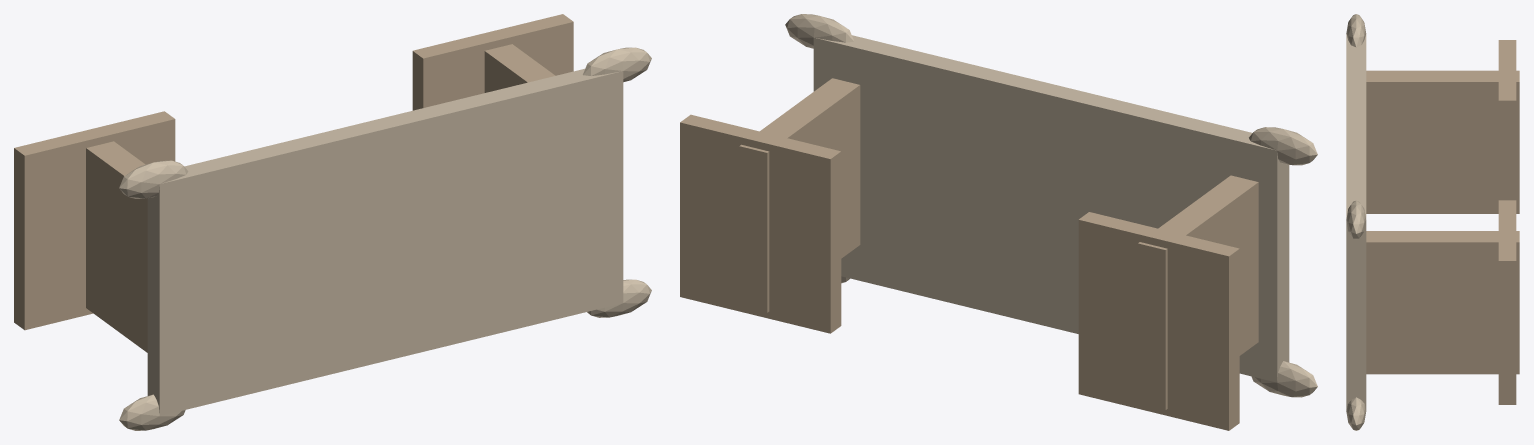
The model's file is meeting_table.glb.
The picture shows the model from 3 angles, left to right: view 1: azimuth 30°, elevation 25°; view 2: azimuth 150°, elevation 25°; view 3: azimuth 270°, elevation 25°; orthographic projection. The views are drawn at different scales.
Parts seen in each view (by area): view 1: tabletop_core, base_-0.86, pedestal_-0.86, base_0.86, pedestal_0.86, tabletop_corner_-1_1, tabletop_corner_1_1, tabletop_corner_-1_-1, tabletop_corner_1_-1; view 2: tabletop_core, base_-0.86, base_0.86, pedestal_0.86, pedestal_-0.86, tabletop_corner_-1_1, tabletop_corner_1_1, tabletop_corner_-1_-1; view 3: pedestal_-0.86, pedestal_0.86, tabletop_core, base_0.86, base_-0.86, tabletop_corner_1_1, tabletop_corner_1_-1, tabletop_corner_-1_1.
Part boxes in pixels (left/top/right/bottom): tabletop_core: left=147, top=68, right=623, bottom=415; base_-0.86: left=14, top=111, right=175, bottom=330; pedestal_-0.86: left=86, top=141, right=147, bottom=352; base_0.86: left=412, top=14, right=573, bottom=110; pedestal_0.86: left=484, top=44, right=555, bottom=92; tabletop_corner_-1_1: left=119, top=160, right=188, bottom=198; tabletop_corner_1_1: left=583, top=47, right=651, bottom=82; tabletop_corner_-1_-1: left=119, top=394, right=185, bottom=430; tabletop_corner_1_-1: left=587, top=279, right=651, bottom=317; tabletop_core: left=813, top=35, right=1289, bottom=382; base_-0.86: left=1078, top=212, right=1239, bottom=430; base_0.86: left=680, top=114, right=841, bottom=333; pedestal_0.86: left=739, top=78, right=860, bottom=312; pedestal_-0.86: left=1138, top=175, right=1258, bottom=409; tabletop_corner_-1_1: left=1249, top=127, right=1317, bottom=165; tabletop_corner_1_1: left=785, top=14, right=854, bottom=48; tabletop_corner_-1_-1: left=1251, top=361, right=1317, bottom=397; pedestal_-0.86: left=1366, top=70, right=1519, bottom=213; pedestal_0.86: left=1366, top=231, right=1519, bottom=374; tabletop_core: left=1346, top=34, right=1366, bottom=410; base_0.86: left=1498, top=200, right=1516, bottom=404; base_-0.86: left=1498, top=40, right=1516, bottom=200; tabletop_corner_1_1: left=1346, top=200, right=1366, bottom=239; tabletop_corner_1_-1: left=1346, top=397, right=1366, bottom=430; tabletop_corner_-1_1: left=1346, top=14, right=1366, bottom=47.
Bounding box in the file's own units: 2.37 × 1.1 × 0.785.
